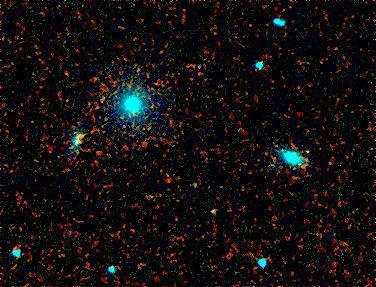star: (69, 119, 99, 149)
